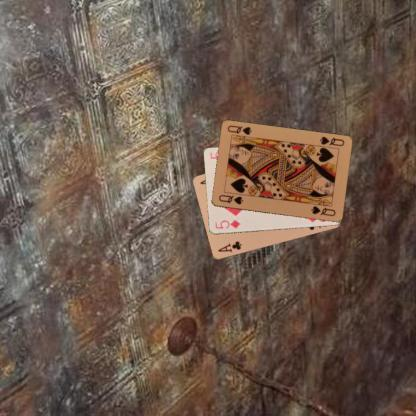5d: (212, 218, 242, 230)
Ac: (216, 238, 243, 254)
Qs: (216, 192, 244, 206), (317, 134, 345, 147)
